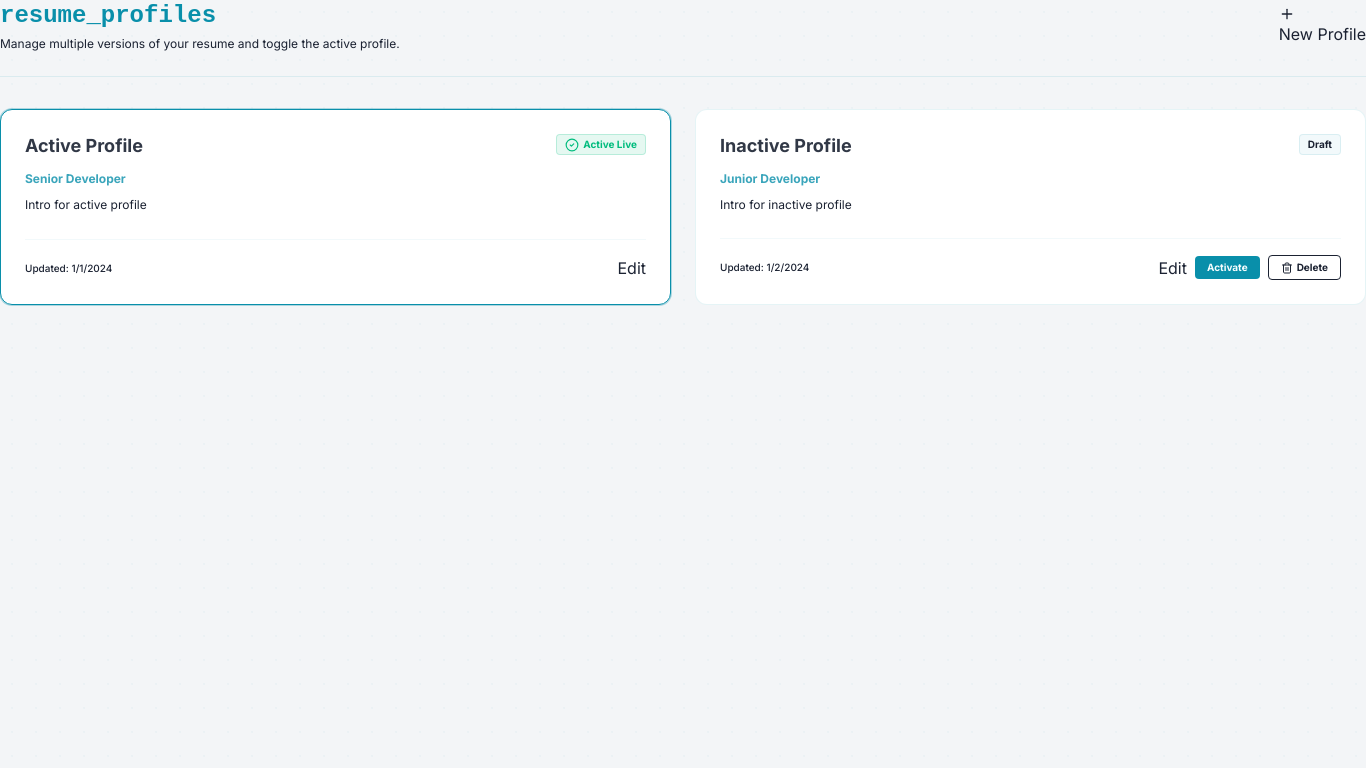
Test: ResumeProfilesPage › displays error message when delete fails
The image size is (1366, 768).
Expected: the heading "Inactive Profile" is shown, [720, 134, 852, 159]
Click the button "Delete" at (1304,268), box [1268, 255, 1341, 280]
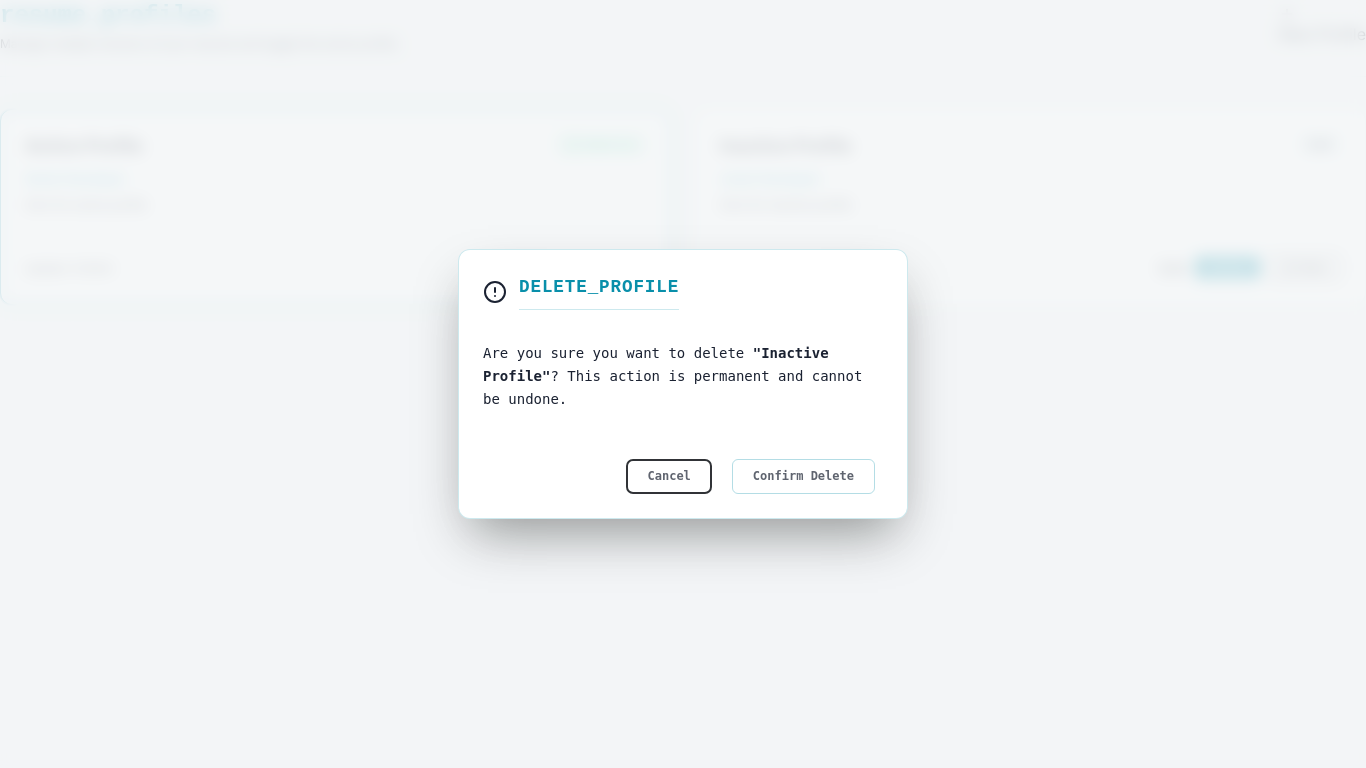
Click the button "Confirm Delete" at (803,476), box [732, 459, 875, 494]
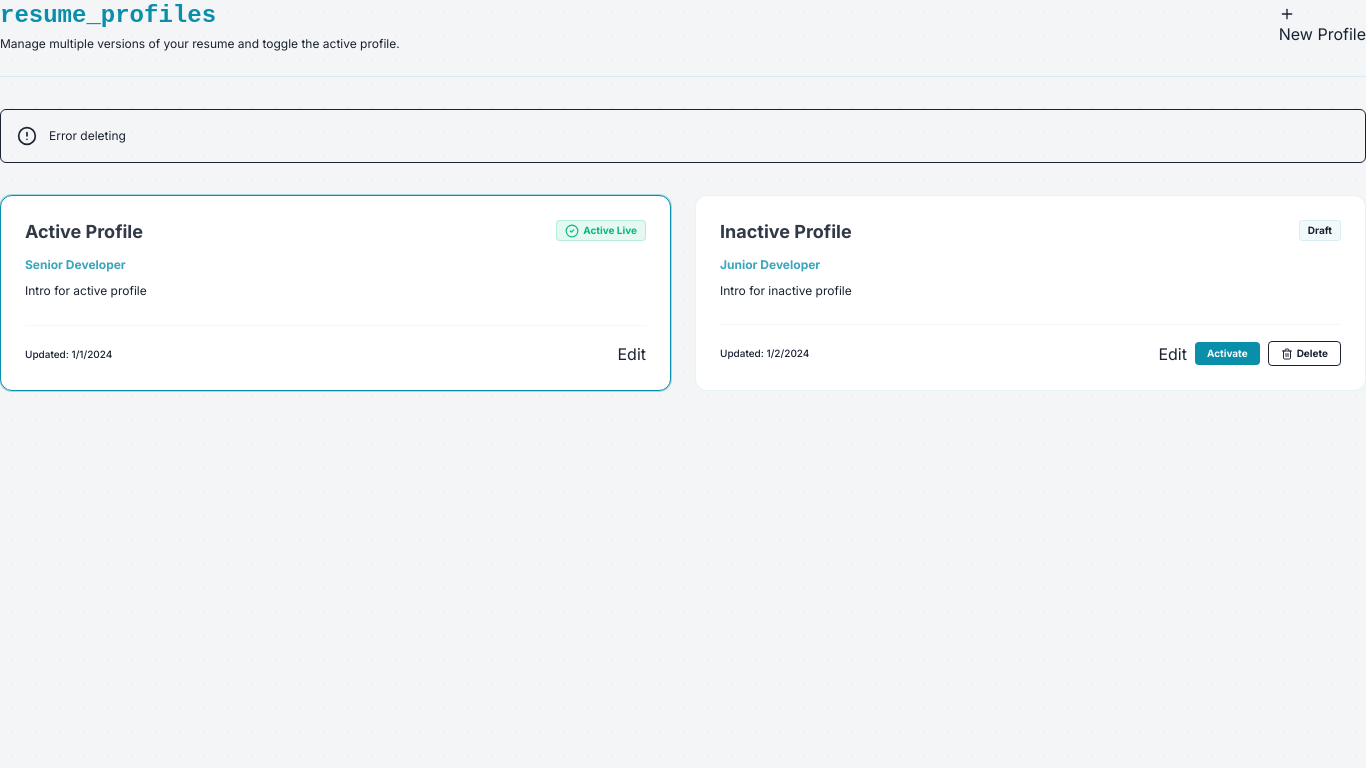
Result: the text "Error deleting" is shown at [49, 128, 126, 144]
